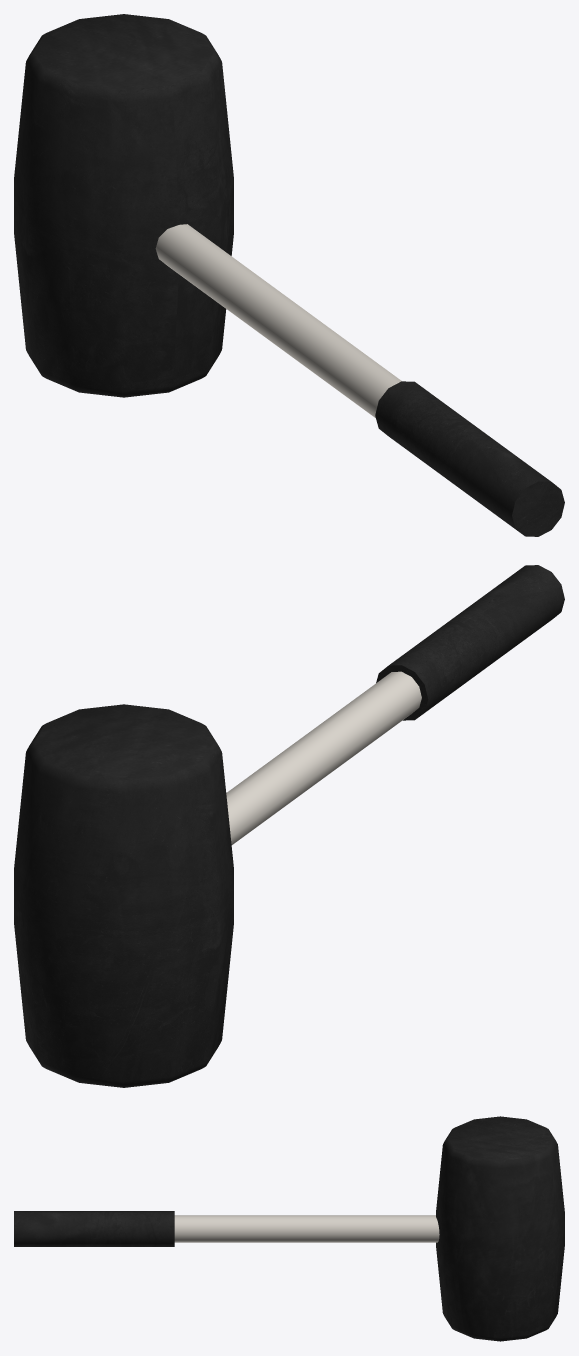
File: xiangjiaochui.FBX
3 views of the same model, one above another, from view 1: azimuth 30°, elevation 25°; view 2: azimuth 150°, elevation 25°; view 3: azimuth 270°, elevation 25° (orthographic). The views are drawn at different scales.
Visible parts, largest first — view 1: xiangjiaochui; view 2: xiangjiaochui; view 3: xiangjiaochui.
Part boxes in pixels (x1=…): xiangjiaochui: x1=14, y1=14, x2=564, y2=536; xiangjiaochui: x1=14, y1=565, x2=564, y2=1087; xiangjiaochui: x1=14, y1=1116, x2=564, y2=1341.
Size of the model in its own units: 7.05 by 10.88 by 30.08.
Materials: 1 (1 with a texture image).
